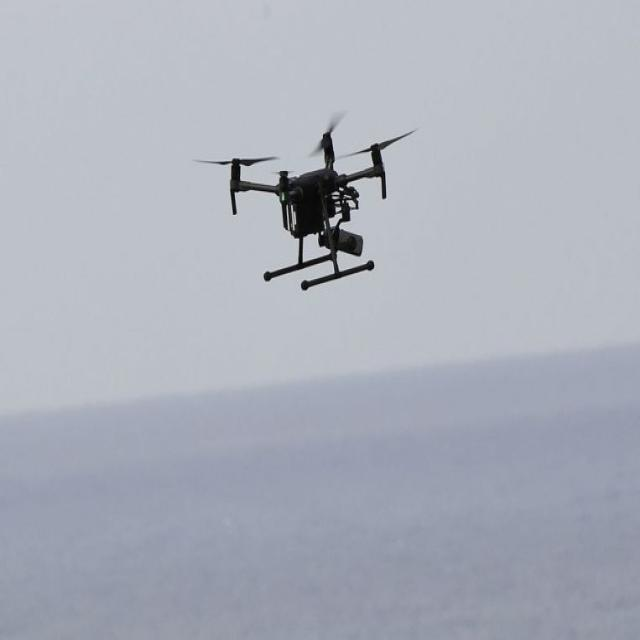drone: (203, 108, 417, 272)
